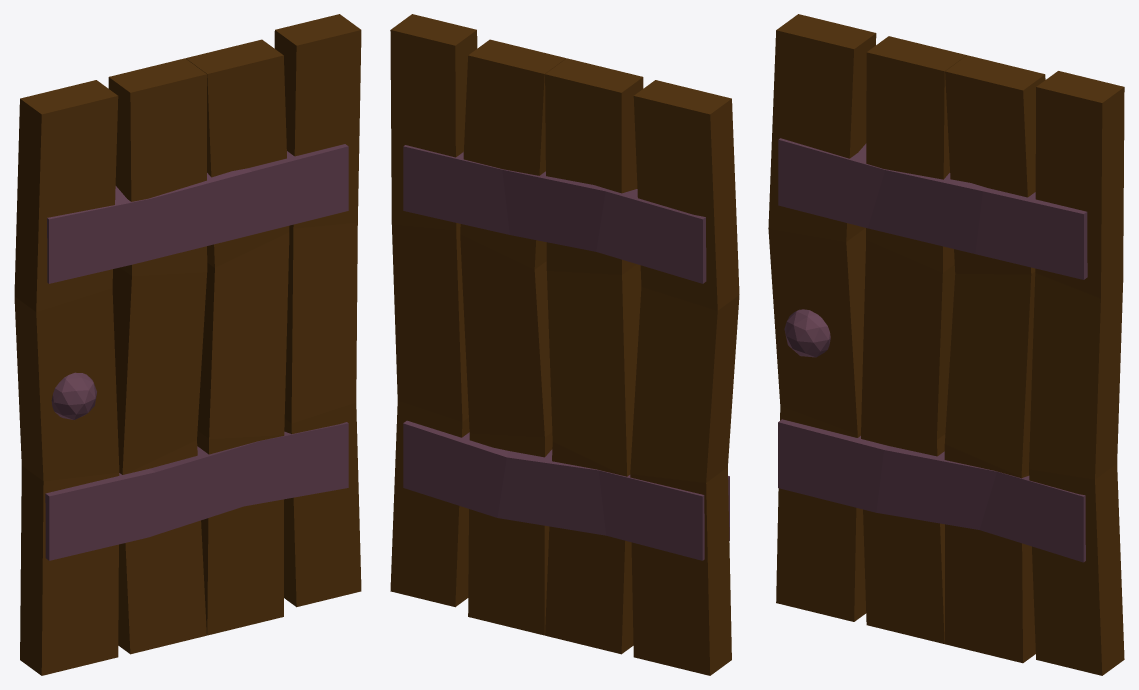
File: lowpoly_cottagehouse1_door.fbx
3 views of the same model, side by side, from view 1: azimuth 30°, elevation 25°; view 2: azimuth 150°, elevation 25°; view 3: azimuth 330°, elevation 25° (orthographic). The views are drawn at different scales.
Visible parts, largest first — view 1: Door; view 2: Door; view 3: Door.
Boxes of the visible parts, x1=… form: Door: x1=14, y1=14, x2=361, y2=675; Door: x1=390, y1=14, x2=739, y2=675; Door: x1=768, y1=14, x2=1124, y2=675.
Size of the model in its own units: 68.65 by 114 by 13.54.
